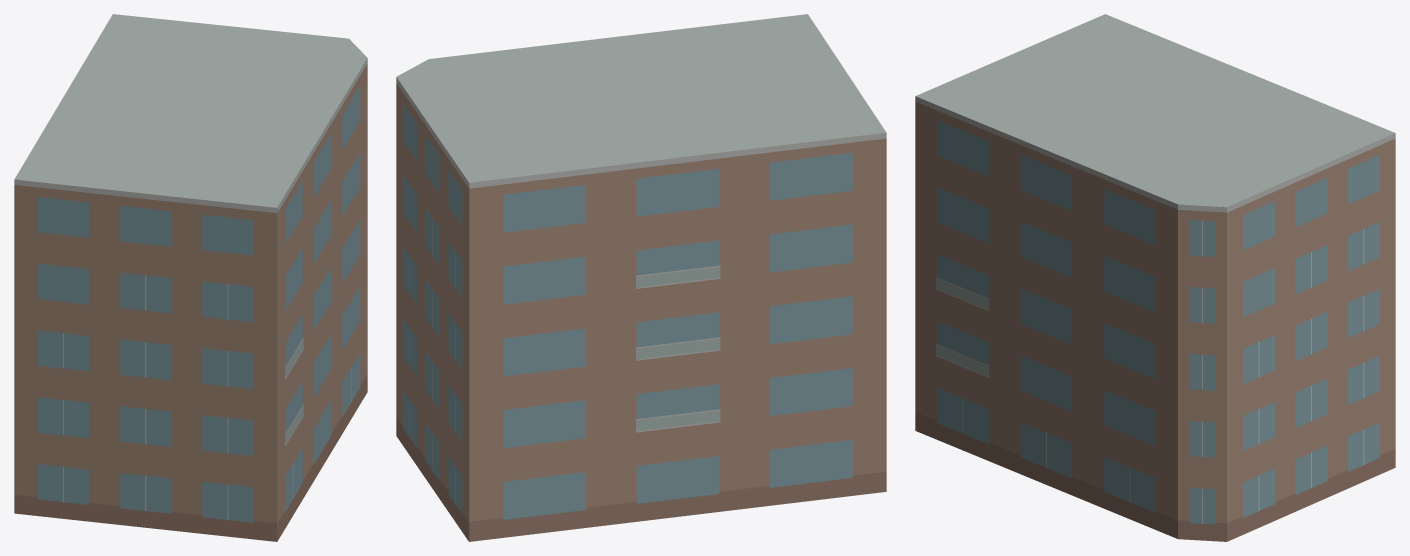
Rendered from survey-upis-32845332.glb.
3 views of the same model, side by side, from view 1: azimuth 30°, elevation 25°; view 2: azimuth 150°, elevation 25°; view 3: azimuth 270°, elevation 25° (orthographic). The views are drawn at different scales.
Visible parts, largest first — view 1: survey-upis-32845332.tmp; view 2: survey-upis-32845332.tmp; view 3: survey-upis-32845332.tmp.
Part boxes in pixels (<box>): survey-upis-32845332.tmp: <box>14,14,367,541</box>; survey-upis-32845332.tmp: <box>396,14,886,541</box>; survey-upis-32845332.tmp: <box>915,14,1395,541</box>.
Size of the model in its own units: 18.9 by 15.25 by 19.85.
